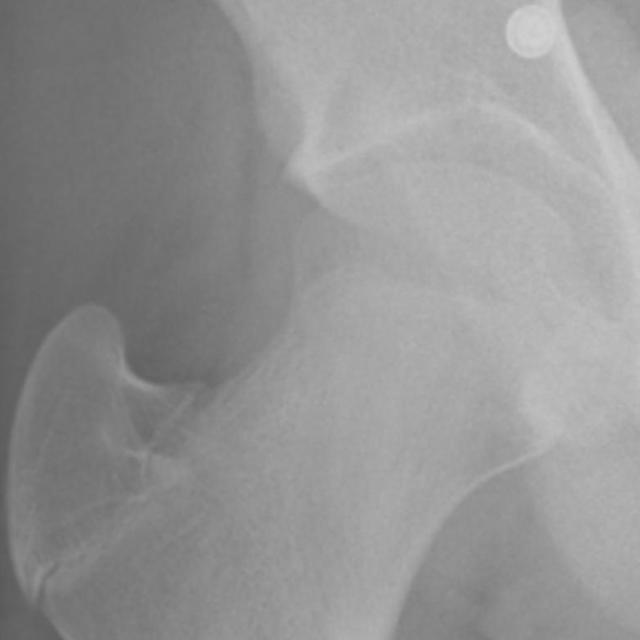Fitted_femural_head: (338, 159, 432, 338)
